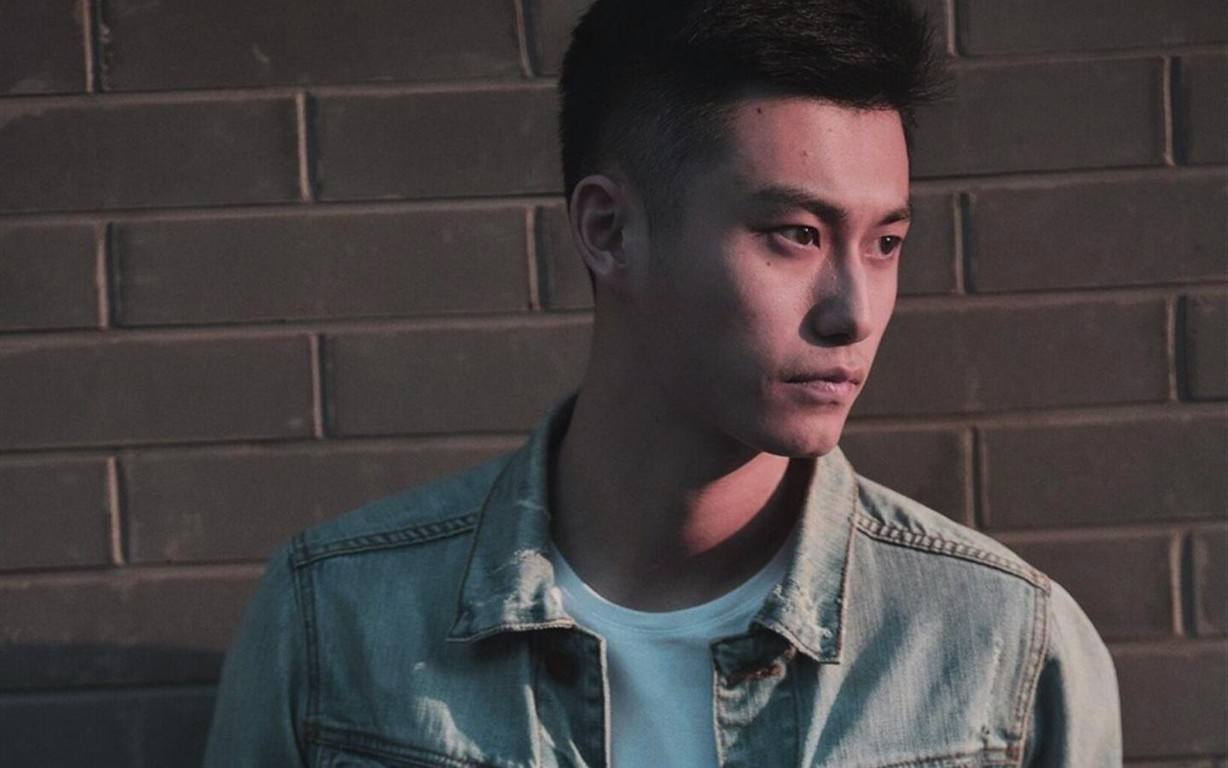person: (517, 26, 1025, 759)
